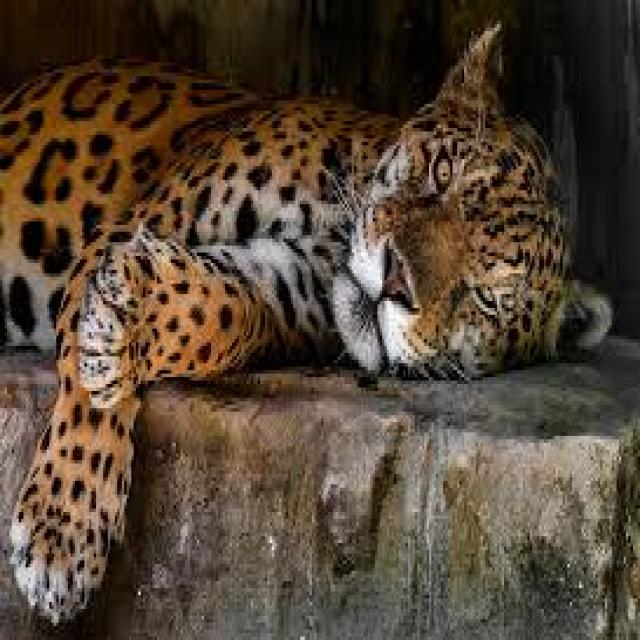Jaguar: (0, 21, 614, 626)
